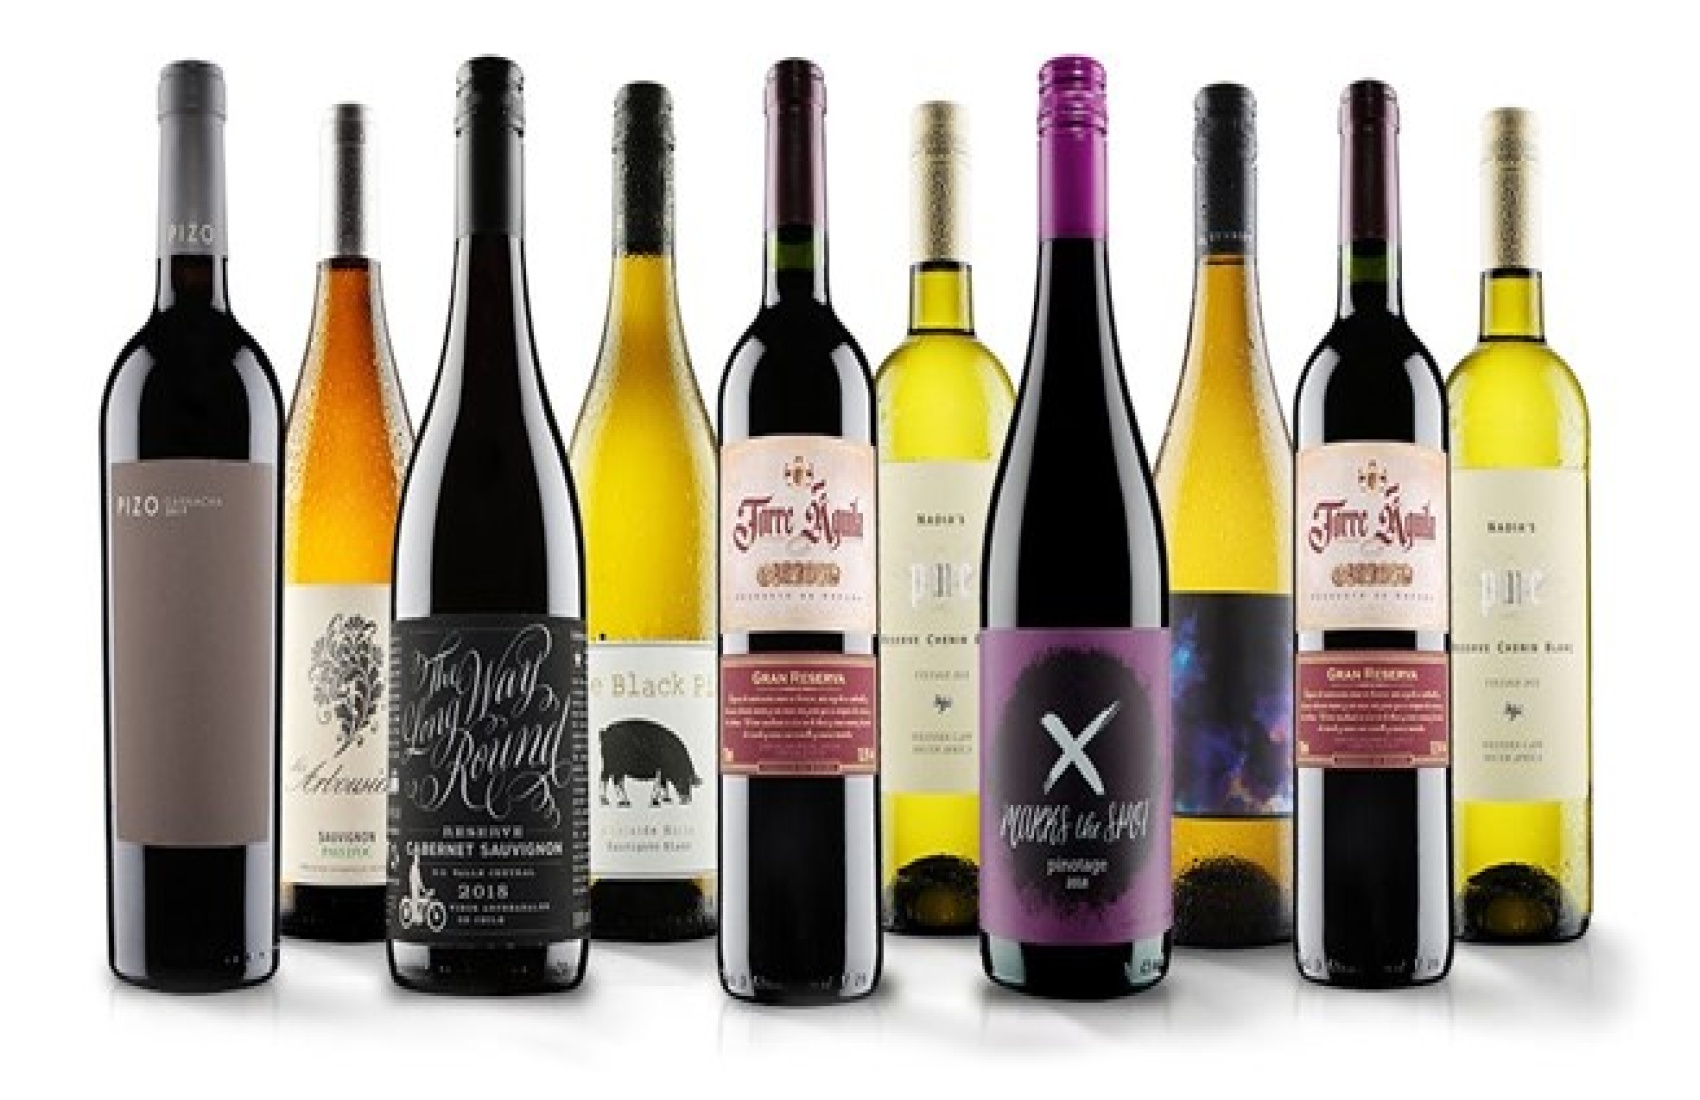wine: (392, 71, 589, 975), (985, 82, 1168, 989), (104, 84, 281, 979), (720, 109, 881, 1003), (1302, 82, 1453, 970)
